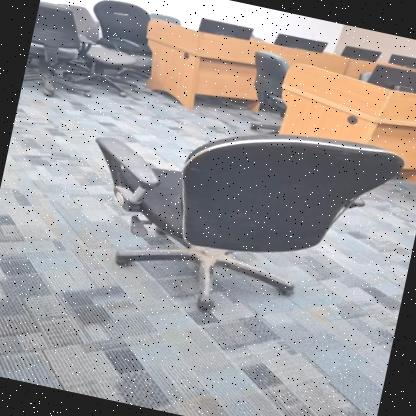chair: (58, 71, 416, 352)
